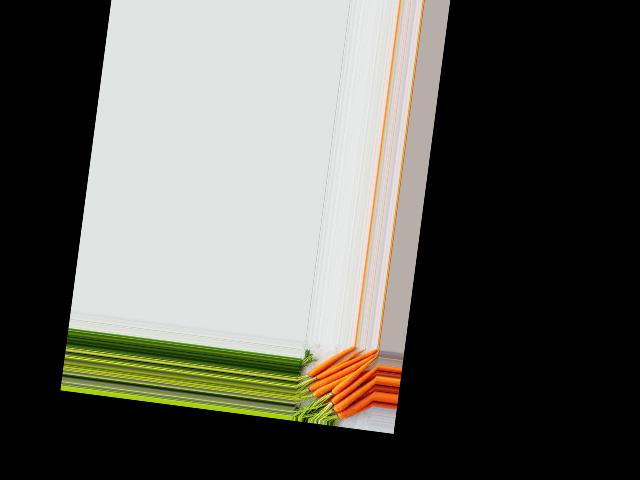carrot: (336, 392, 374, 423)
